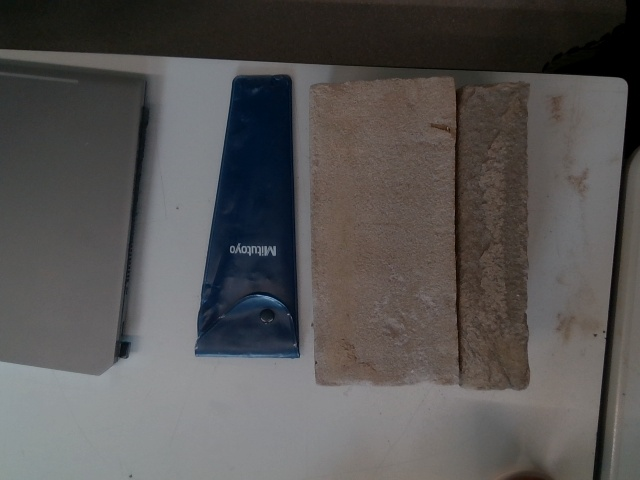brick: (307, 83, 461, 379)
